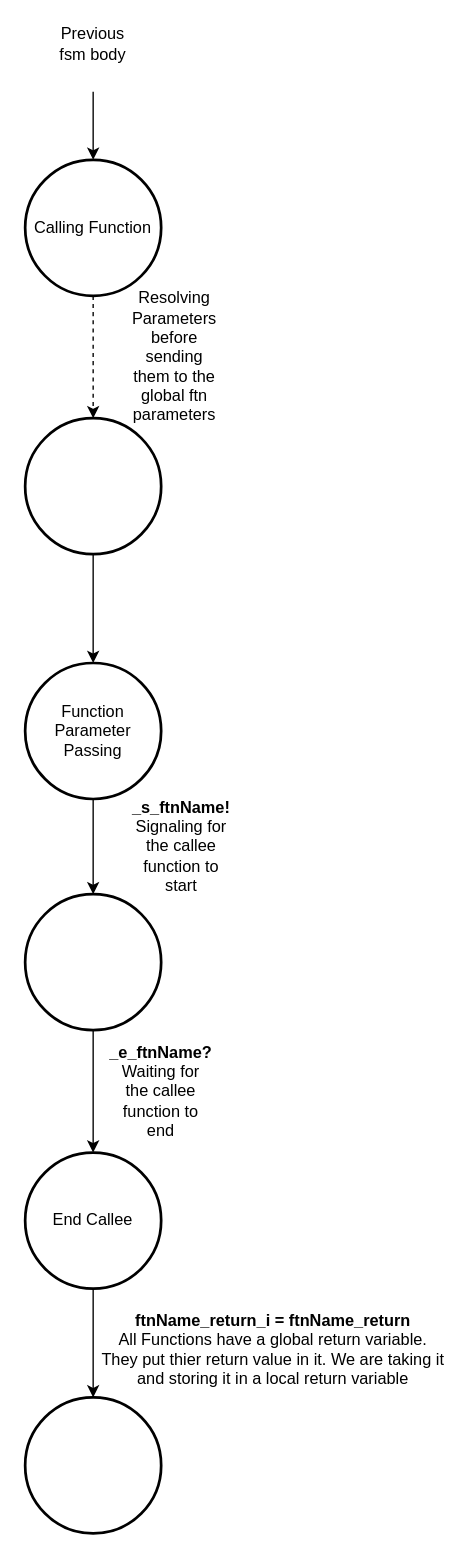
Image size: 469x1557. Some labels were removed from this diagram. The shapes that lost their labels are listed below. From the top down, each one's centre as x and y in pixels, then its label:
At (x=92, y=961): "Start Callee".
At (x=92, y=1464): "Return Value Recieved".
